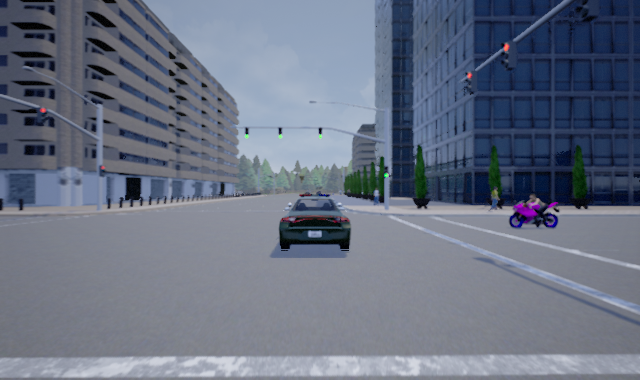motobike: (508, 193, 559, 227)
pedestrian: (487, 185, 500, 211), (372, 185, 380, 206)
vehicle: (278, 191, 351, 250)
